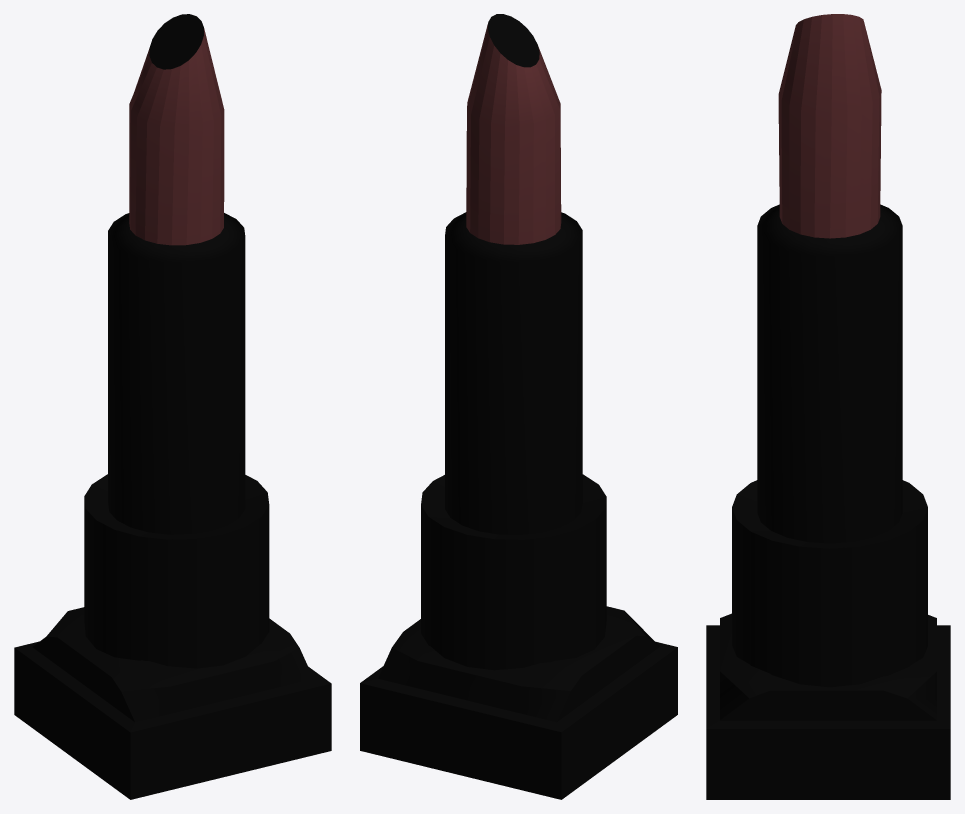
The model's file is lipstick.fbx.
3 renders of one model, left to right at view 1: azimuth 30°, elevation 25°; view 2: azimuth 150°, elevation 25°; view 3: azimuth 270°, elevation 25°, orthographic. The views are drawn at different scales.
Visible parts, largest first — view 1: pCube4; view 2: pCube4; view 3: pCube4.
Part boxes in pixels (left/top/right/bottom): pCube4: left=14, top=14, right=331, bottom=799; pCube4: left=360, top=14, right=677, bottom=799; pCube4: left=706, top=14, right=950, bottom=799.
Bounding box in the file's own units: 0.4118 × 1.39 × 0.4118.
